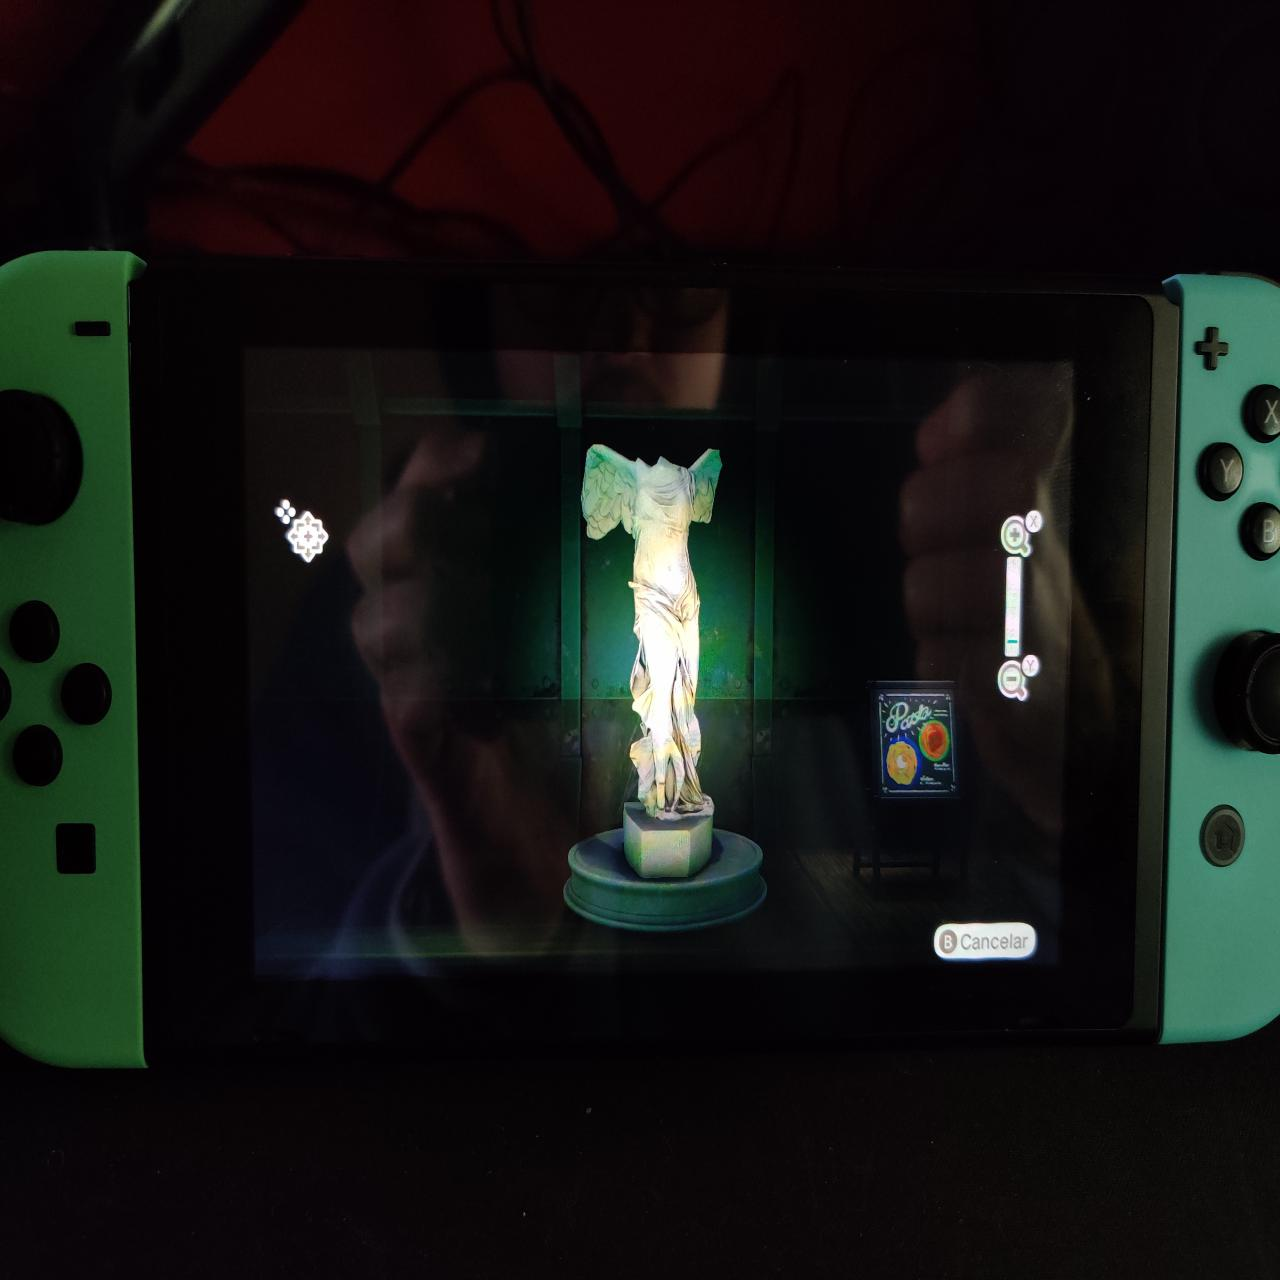Samothrace: (578, 429, 735, 884)
